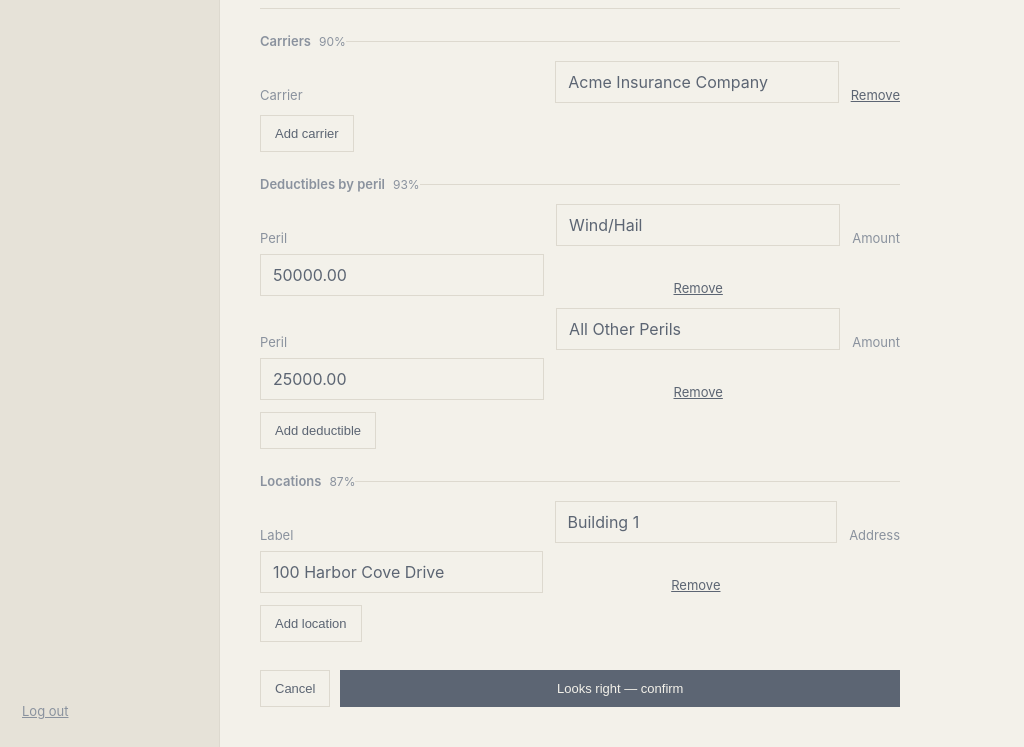
Test: review confirm screen › does not confirm when the user cancels
(page scrolled)
What coordinates should you click on to do the following:
click the button "Cancel"
I would click on:
 (295, 689)
Its box is [260, 670, 330, 707].
(page scrolled)
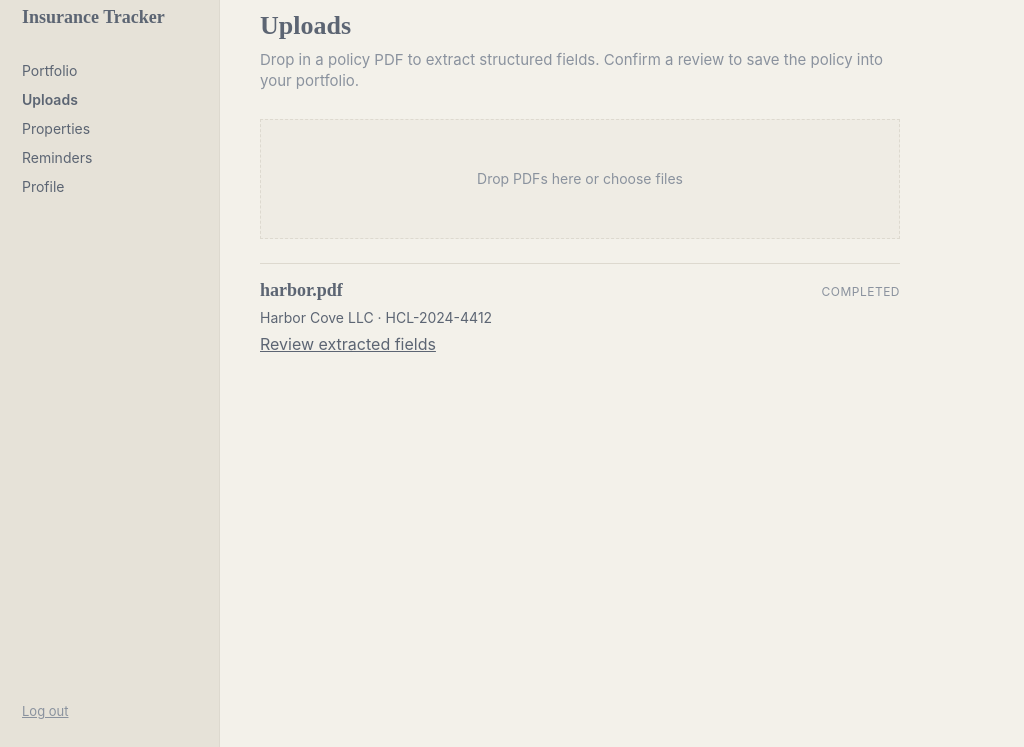
Result: the heading "Uploads" is shown at [260, 11, 351, 40]
